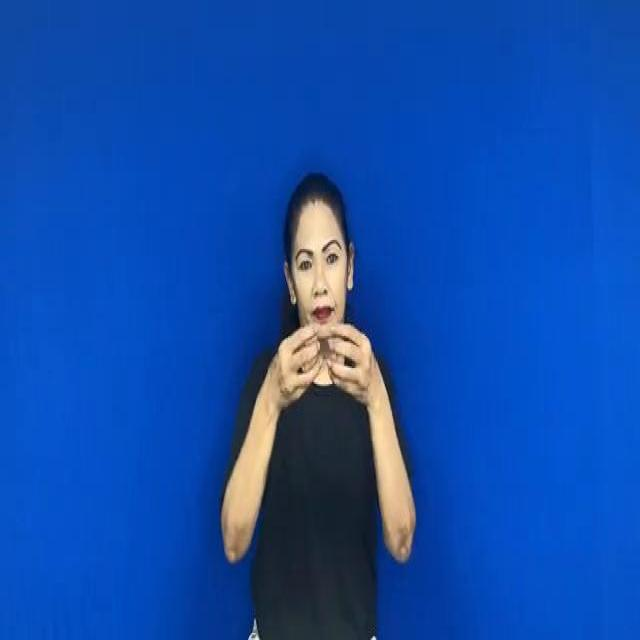egg: (266, 306, 384, 411)
